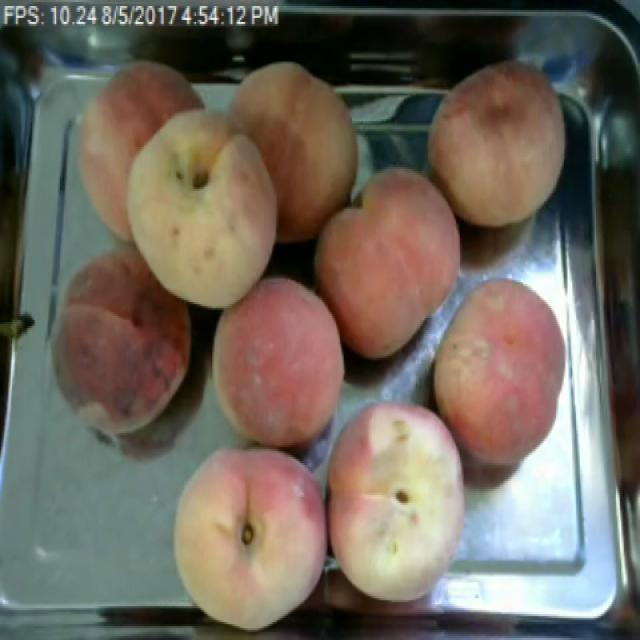Fruit: (72, 66, 293, 326), (23, 235, 209, 459), (297, 155, 476, 374), (325, 386, 480, 614), (159, 431, 329, 638), (418, 268, 582, 475), (196, 262, 361, 463), (216, 52, 376, 254), (416, 48, 581, 238)
